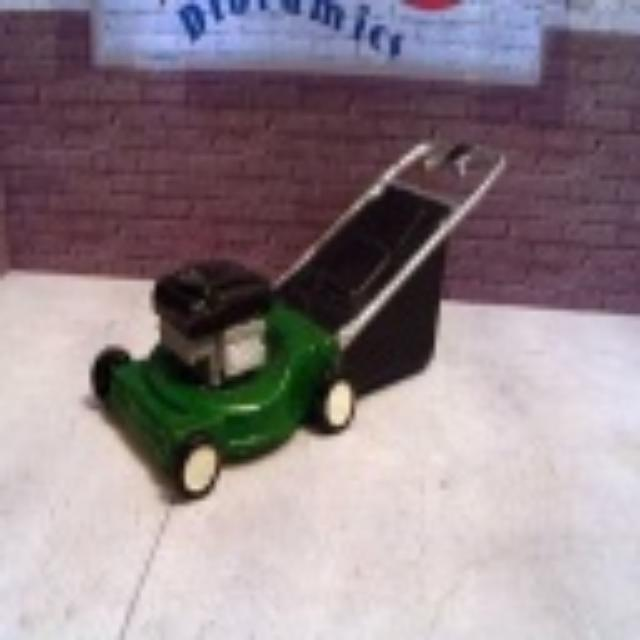Rotary-Mower: (85, 130, 505, 500)
